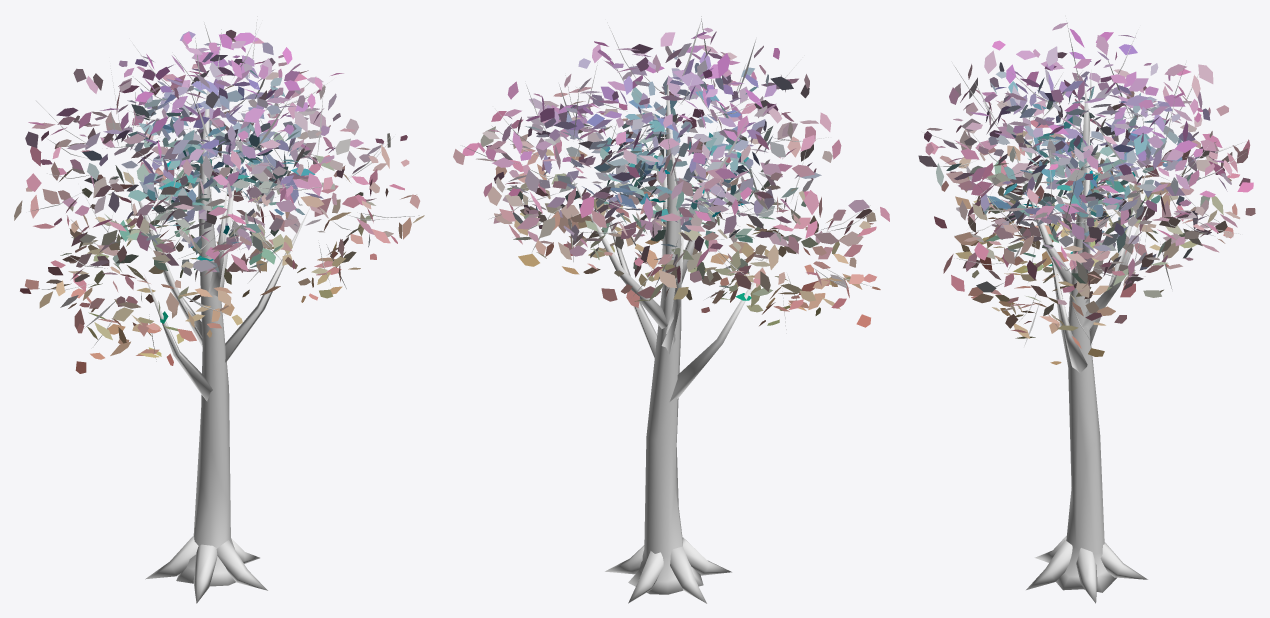
File: broadleaf_lod2.glb
The picture shows the model from 3 angles, left to right: view 1: azimuth 30°, elevation 25°; view 2: azimuth 150°, elevation 25°; view 3: azimuth 270°, elevation 25°; orthographic projection. The views are drawn at different scales.
Parts seen in each view (by area): view 1: LeafClump_Canopy, Trunk_Branches_LOD0; view 2: LeafClump_Canopy, Trunk_Branches_LOD0; view 3: LeafClump_Canopy, Trunk_Branches_LOD0.
Boxes of the visible parts, <box> form: LeafClump_Canopy: <box>14,30,424,373</box>; Trunk_Branches_LOD0: <box>29,16,419,603</box>; LeafClump_Canopy: <box>453,27,889,327</box>; Trunk_Branches_LOD0: <box>464,16,872,603</box>; LeafClump_Canopy: <box>918,22,1255,364</box>; Trunk_Branches_LOD0: <box>925,23,1242,603</box>.
Bounding box in the file's own units: 7.06 × 10.04 × 5.55.
